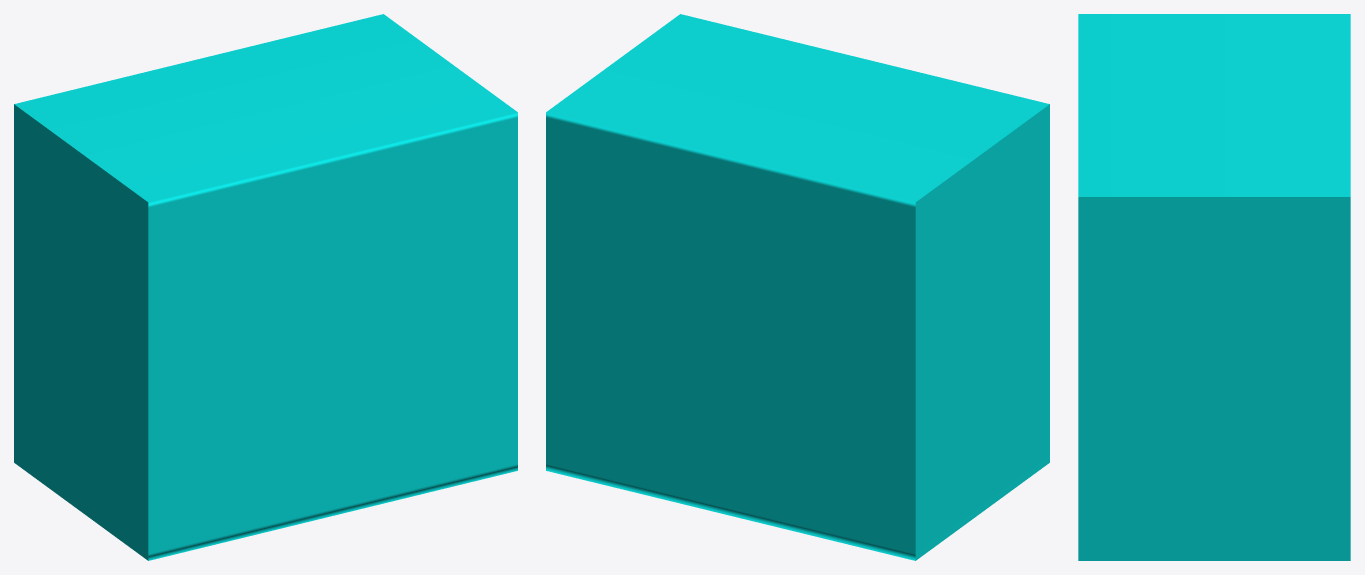
File: Book_Multi_02.fbx
The picture shows the model from 3 angles, left to right: view 1: azimuth 30°, elevation 25°; view 2: azimuth 150°, elevation 25°; view 3: azimuth 270°, elevation 25°; orthographic projection.
Visible parts, largest first — view 1: Book_Multi_02; view 2: Book_Multi_02; view 3: Book_Multi_02.
Boxes of the visible parts, bbox=[...] form: Book_Multi_02: bbox=[14, 14, 517, 560]; Book_Multi_02: bbox=[546, 14, 1049, 560]; Book_Multi_02: bbox=[1078, 14, 1350, 560].
Size of the model in its own units: 34.03 by 31.55 by 21.42.
